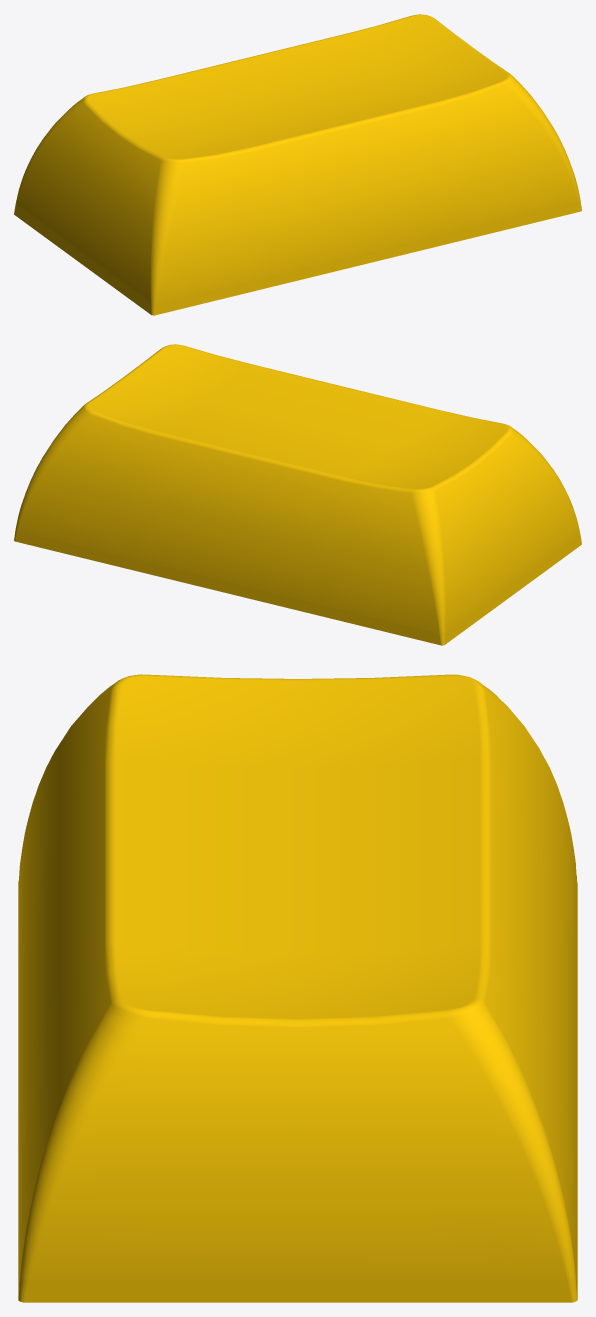
3 views of the same model, one above another, from view 1: azimuth 30°, elevation 25°; view 2: azimuth 150°, elevation 25°; view 3: azimuth 270°, elevation 25° (orthographic). The views are drawn at different scales.
Visible parts, largest first — view 1: Body14; view 2: Body14; view 3: Body14.
Part boxes in pixels (box(x1,y1,x2,y2)): Body14: box(14, 14, 581, 315); Body14: box(14, 344, 581, 645); Body14: box(18, 674, 577, 1302).
Size of the model in its own units: 32.56 by 9.05 by 18.31.
